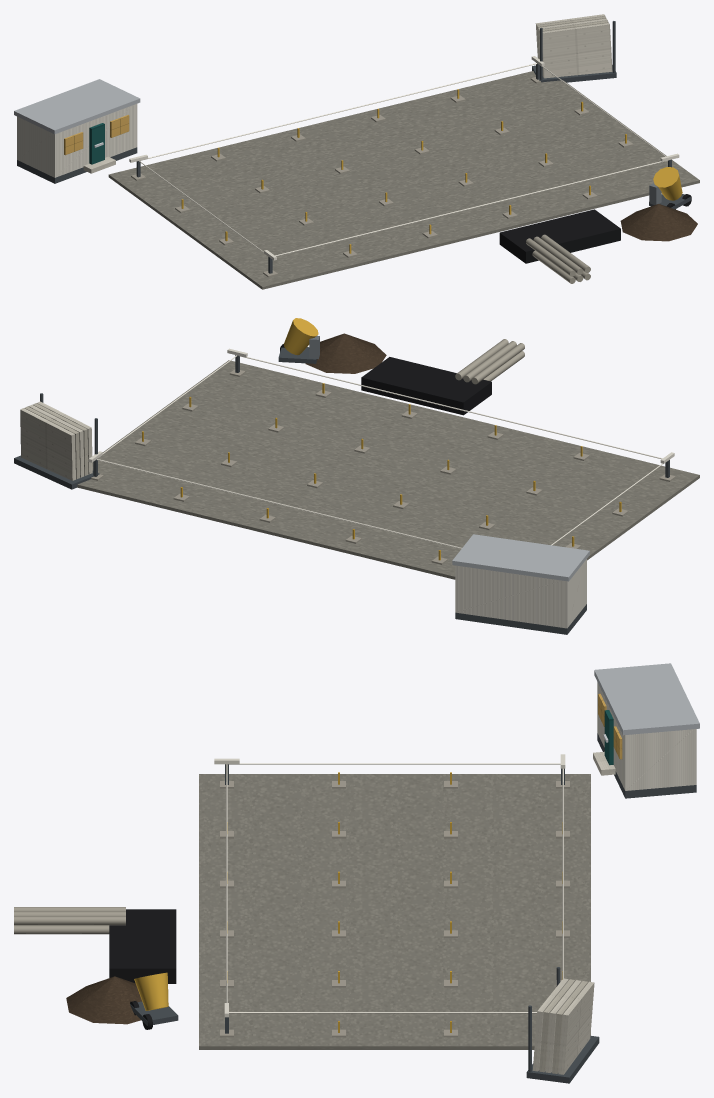
The model's file is lf-1-site.glb.
The picture shows the model from 3 angles, top to bottom: view 1: azimuth 30°, elevation 25°; view 2: azimuth 150°, elevation 25°; view 3: azimuth 270°, elevation 25°; orthographic projection. The views are drawn at different scales.
Size of the model in its own units: 29.18 by 3.15 by 24.49.
15 materials, 7 textured.
